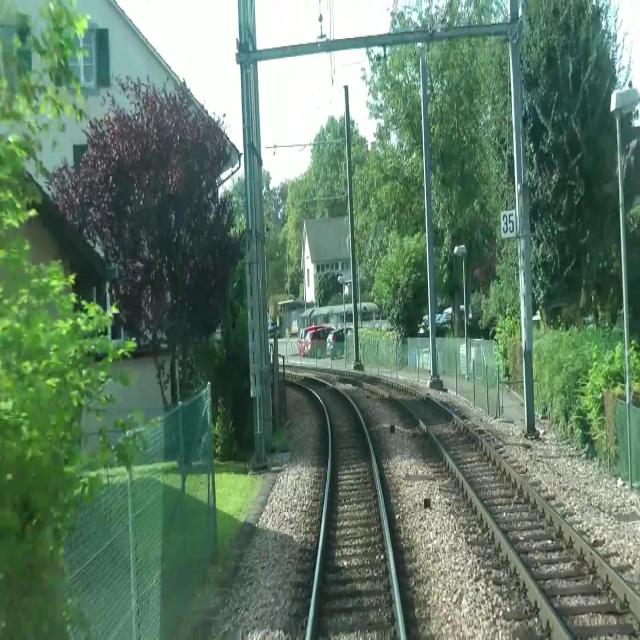rail-track: (365, 378, 640, 639), (292, 377, 401, 639)
